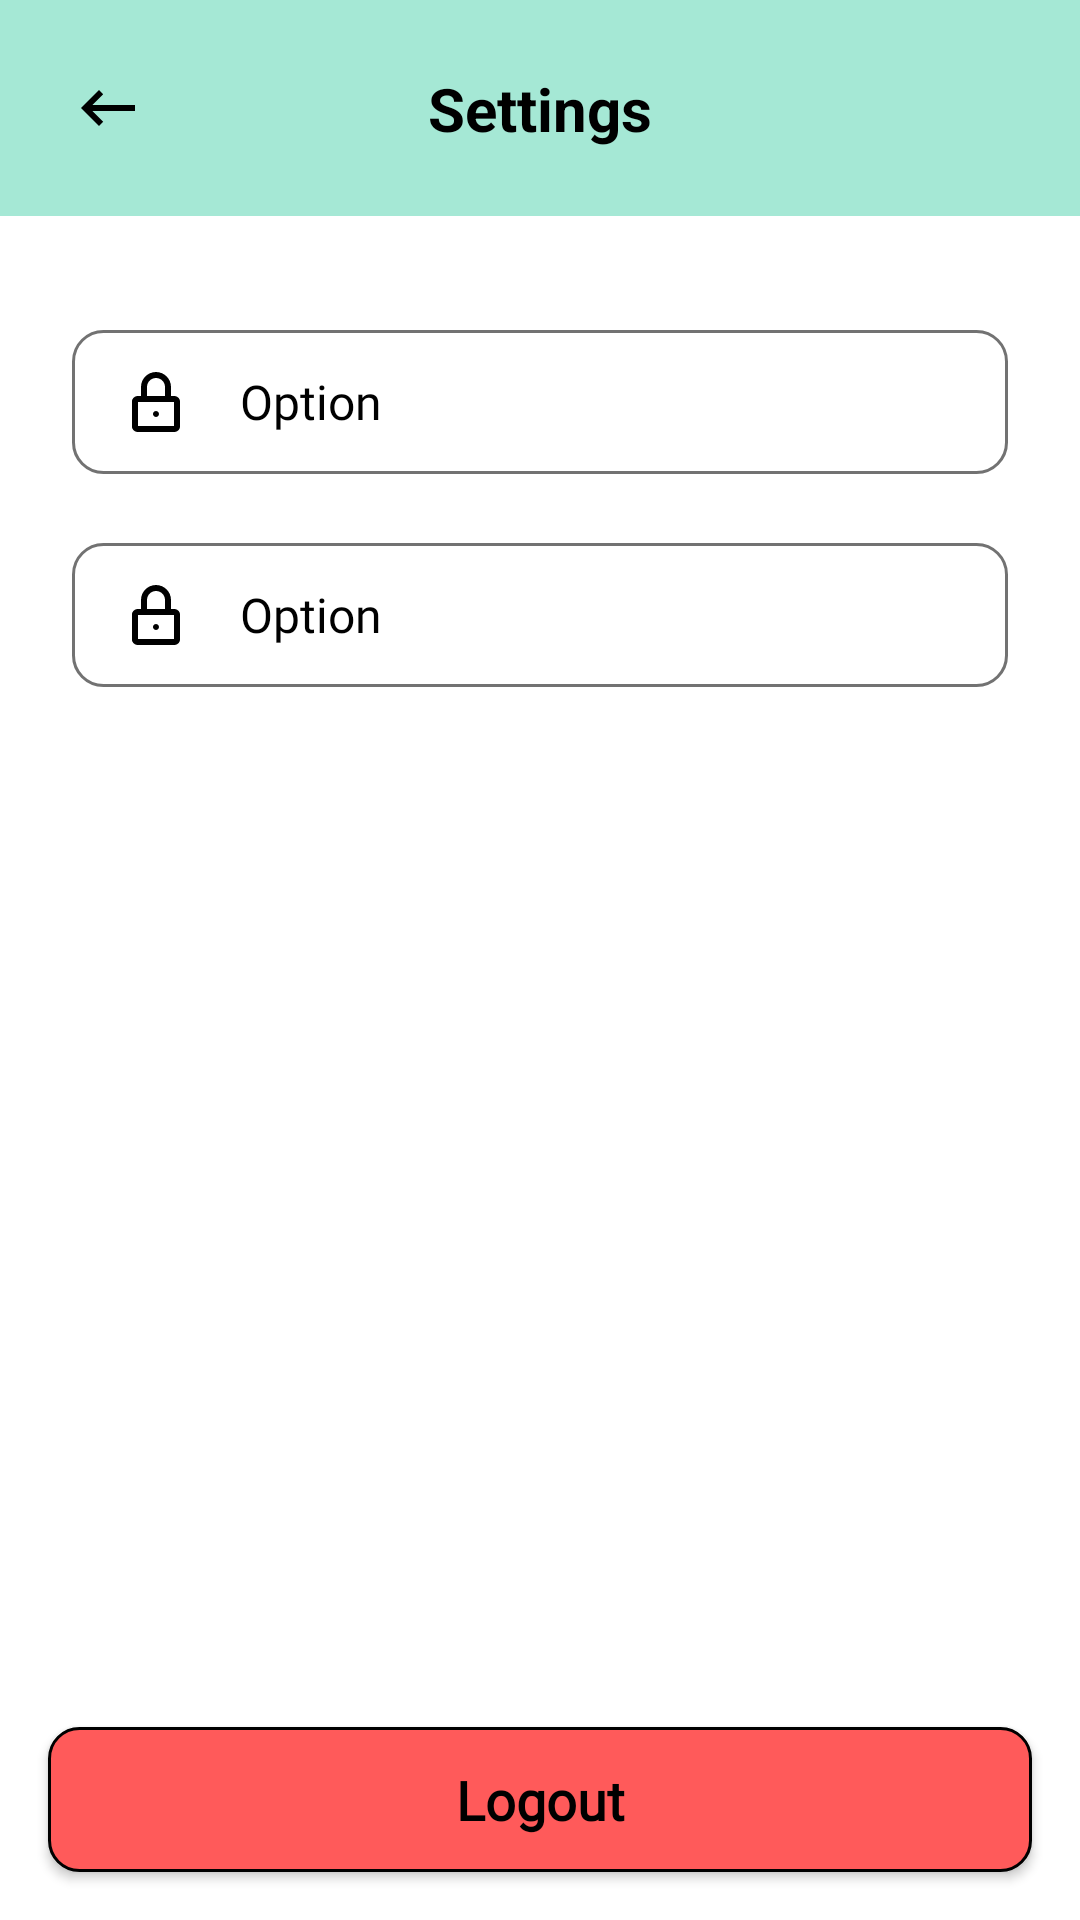

Screen size 1080px×1920px. Icon name, then its center in pixels as (x,y):
keyboard backspace: (108,108)
